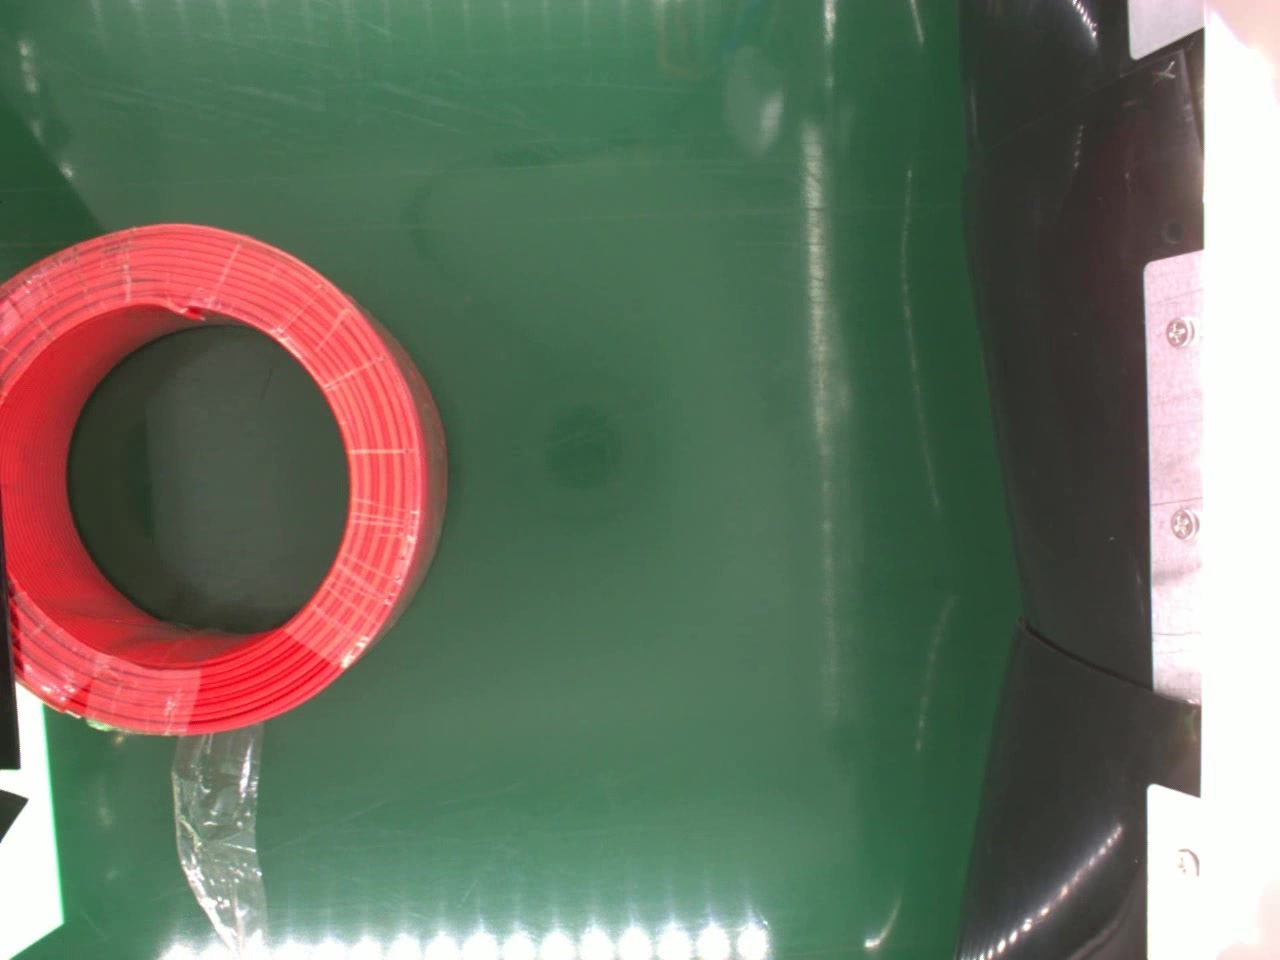red: (0, 220, 451, 744)
